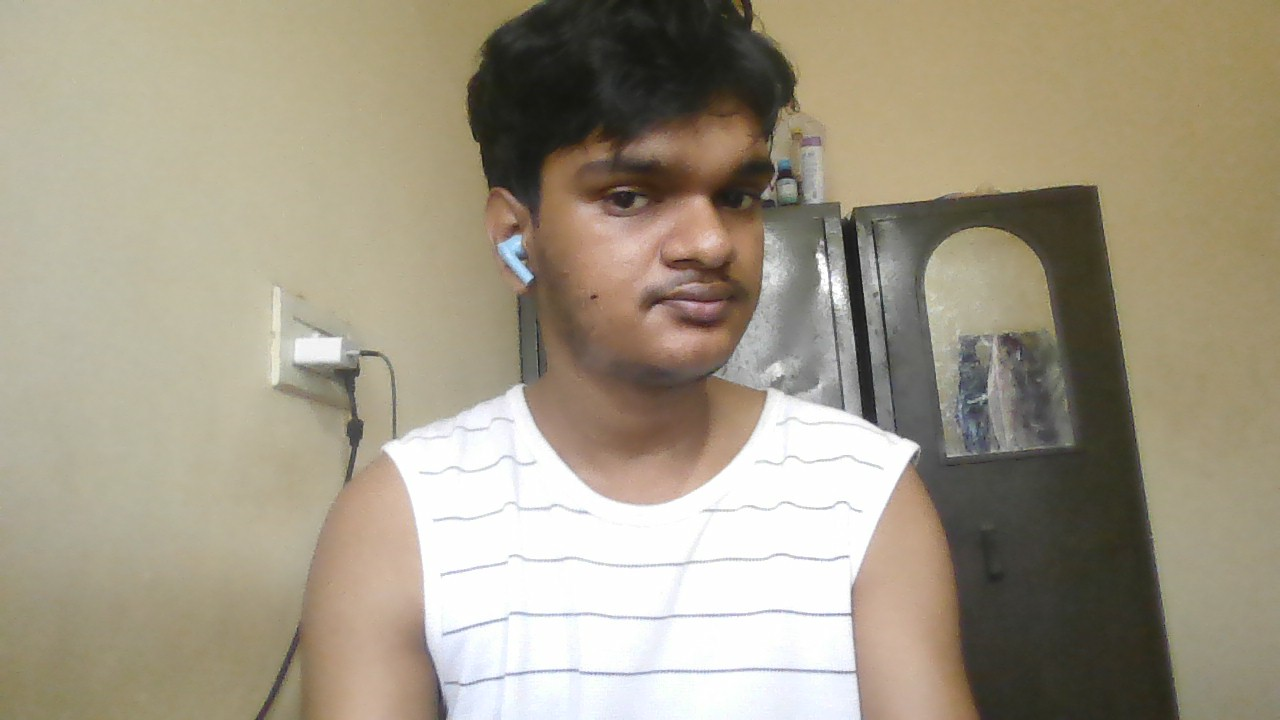earphone: (498, 231, 537, 286)
